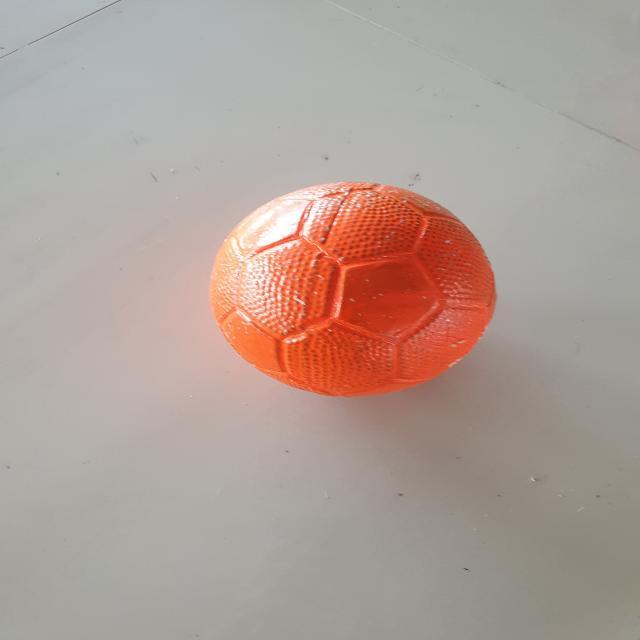bola: (210, 178, 510, 398)
